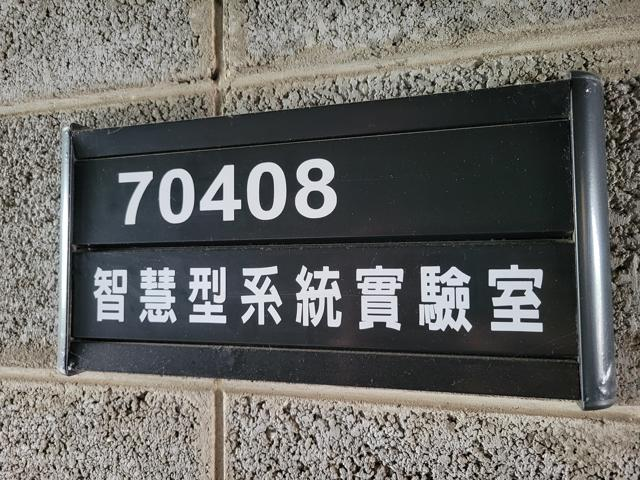doorplate: (45, 64, 626, 414)
